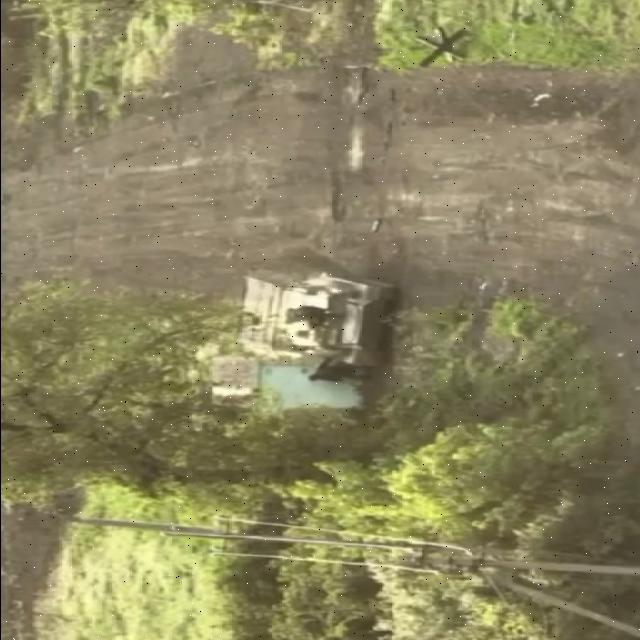APC-IFV: (240, 276, 400, 372)
